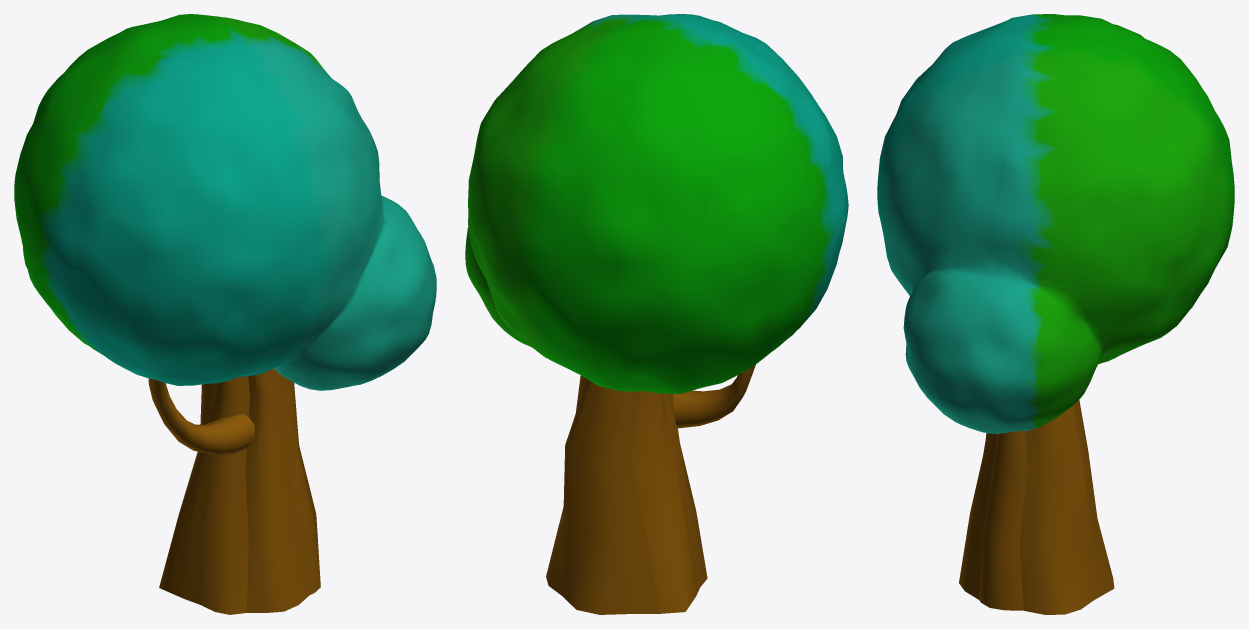
File: Tree01 - Copy.FBX
3 views of the same model, side by side, from view 1: azimuth 30°, elevation 25°; view 2: azimuth 150°, elevation 25°; view 3: azimuth 270°, elevation 25° (orthographic). The views are drawn at different scales.
Parts seen in each view (by area): view 1: Leaves, Thrunk; view 2: Leaves, Thrunk; view 3: Leaves, Thrunk.
Part boxes in pixels (bbox=[...]): Leaves: bbox=[14, 14, 436, 390]; Thrunk: bbox=[148, 368, 320, 614]; Leaves: bbox=[465, 14, 848, 393]; Thrunk: bbox=[546, 364, 755, 614]; Leaves: bbox=[877, 14, 1234, 433]; Thrunk: bbox=[959, 400, 1114, 614].
Size of the model in its own units: 1096 by 971 by 1606.
